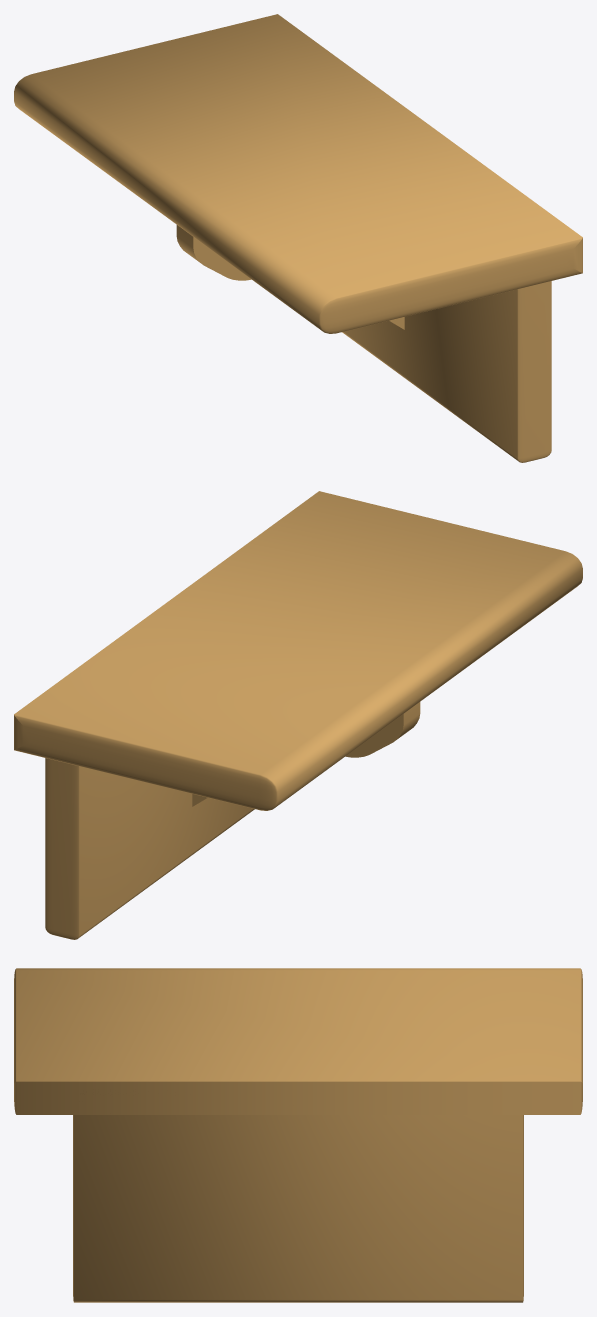
File: duality-plateform0.fbx
The picture shows the model from 3 angles, top to bottom: view 1: azimuth 30°, elevation 25°; view 2: azimuth 150°, elevation 25°; view 3: azimuth 270°, elevation 25°; orthographic projection. The views are drawn at different scales.
Parts seen in each view (by area): view 1: Cube; view 2: Cube; view 3: Cube.
Part boxes in pixels (box(x1,y1,x2,y2)): Cube: box(14, 14, 582, 462); Cube: box(14, 491, 582, 939); Cube: box(14, 968, 582, 1302).
Size of the model in its own units: 200 by 175 by 404.
